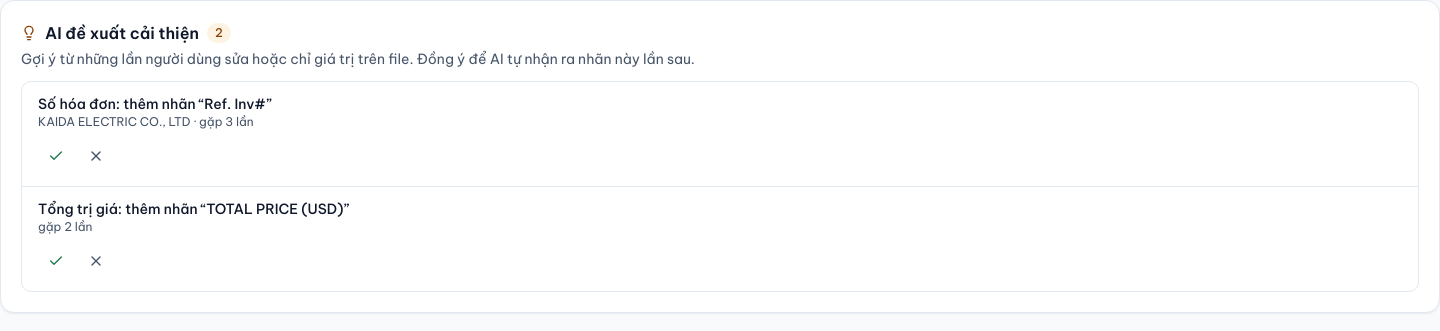
Test: SuggestionsPanel › bỏ qua → gợi ý biến mất, skill không đổi
Click the button named "Bỏ qua" below "gặp 2 lần".
click(96, 261)  # box [78, 243, 114, 279]
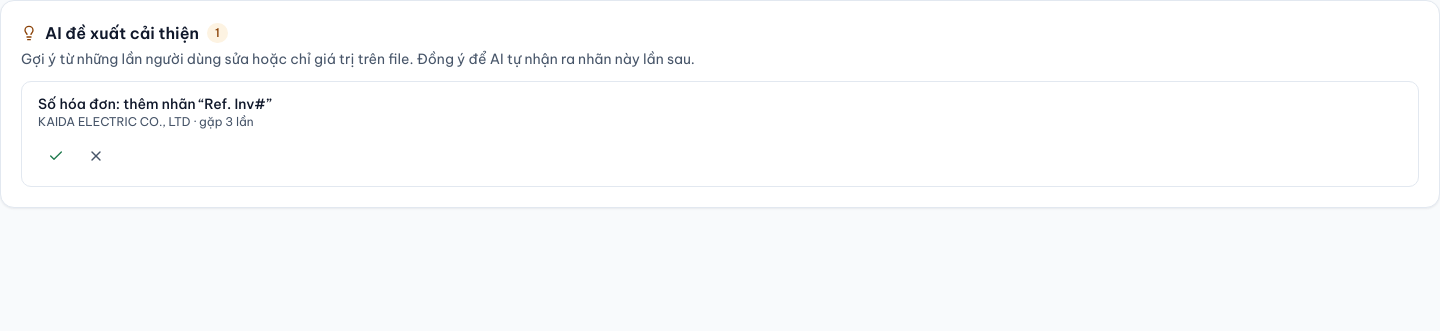
Result: the text "Tổng trị giá: thêm nhãn “TOTAL PRICE (USD)”" is gone
